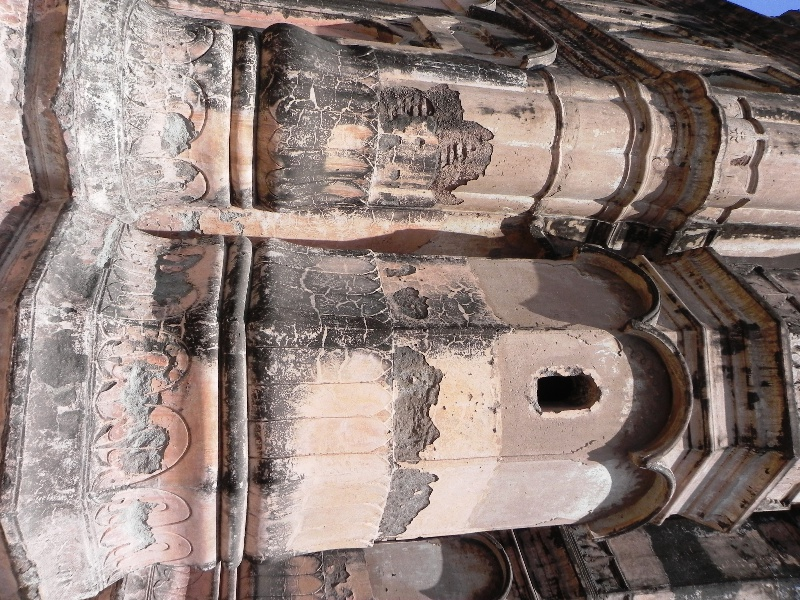Exposed Bricks: (380, 81, 438, 127), (438, 133, 467, 168)
Spalling: (387, 340, 447, 461), (112, 355, 168, 477), (374, 463, 445, 540), (391, 281, 432, 319)
